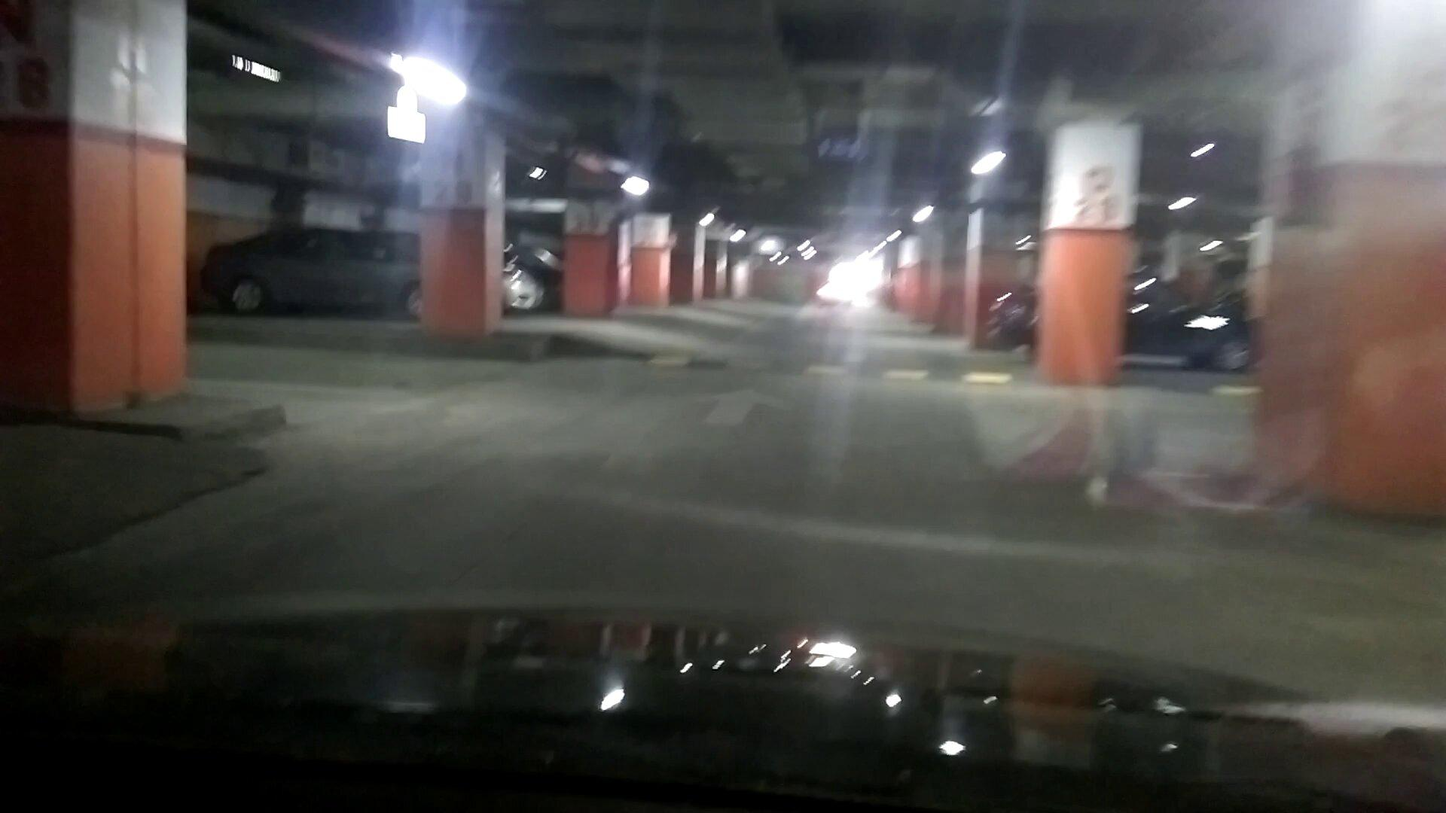Bump: (569, 339, 1009, 390)
